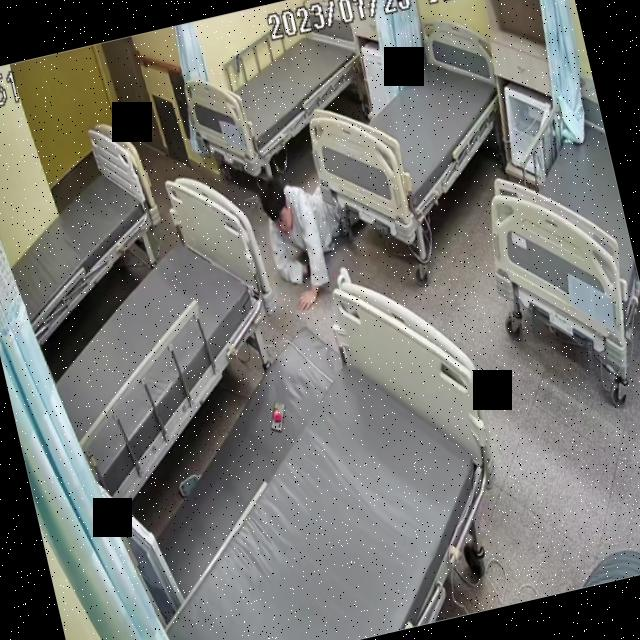bed: (99, 269, 521, 640), (12, 168, 306, 507), (459, 74, 640, 390), (289, 18, 522, 238), (0, 115, 180, 343), (178, 3, 379, 183)
fall: (250, 158, 360, 312)
patient: (248, 154, 358, 309)
